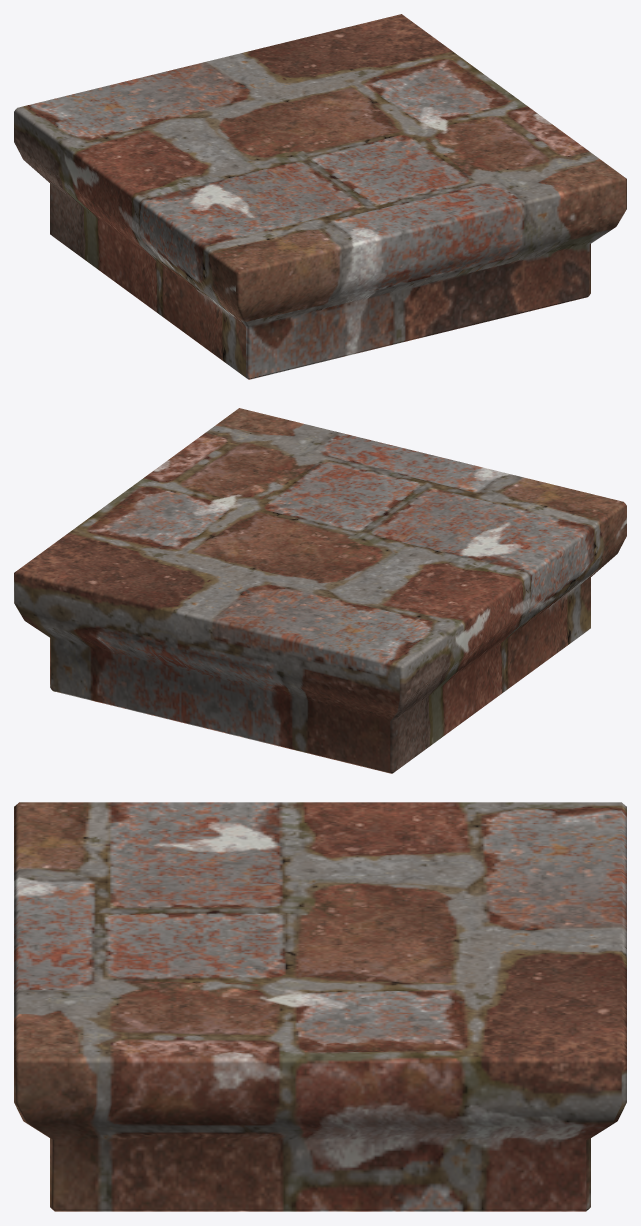
File: SM_Abacus_02.fbx
3 renders of one model, top to bottom at view 1: azimuth 30°, elevation 25°; view 2: azimuth 150°, elevation 25°; view 3: azimuth 270°, elevation 25°, orthographic. The views are drawn at different scales.
Visible parts, largest first — view 1: SM_Abacus_02_LOD0; view 2: SM_Abacus_02_LOD0; view 3: SM_Abacus_02_LOD0.
Part boxes in pixels (x1=…): SM_Abacus_02_LOD0: x1=14, y1=14, x2=626, y2=379; SM_Abacus_02_LOD0: x1=14, y1=408, x2=626, y2=773; SM_Abacus_02_LOD0: x1=14, y1=802, x2=626, y2=1211.
Size of what is drawn, in the model's own units: 181 by 55.24 by 181.
